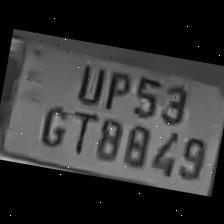3: (156, 75, 192, 124)
4: (146, 122, 182, 174)
5: (127, 69, 164, 118)
8: (118, 116, 152, 168), (90, 112, 124, 162)
9: (173, 130, 209, 180)
G: (36, 99, 70, 148)
P: (98, 64, 133, 110)
T: (66, 106, 97, 154)
U: (71, 57, 107, 104)
